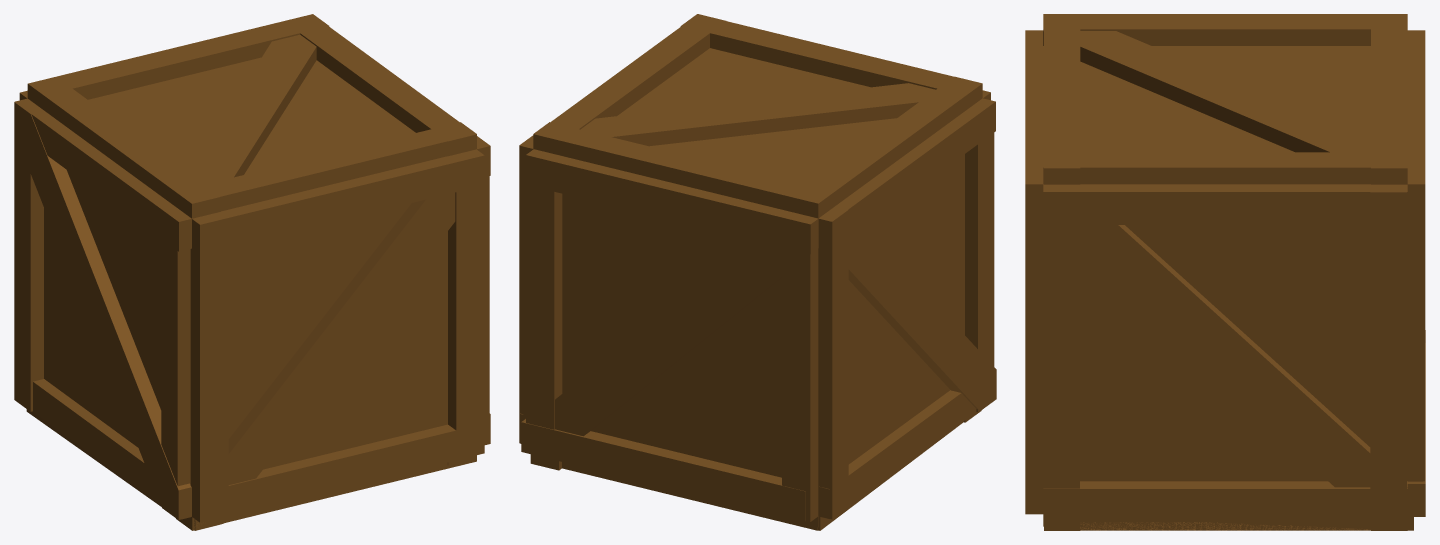
File: crate.fbx
The picture shows the model from 3 angles, left to right: view 1: azimuth 30°, elevation 25°; view 2: azimuth 150°, elevation 25°; view 3: azimuth 270°, elevation 25°; orthographic projection. The views are drawn at different scales.
Parts seen in each view (by area): view 1: Cube.002; view 2: Cube.002; view 3: Cube.002.
Part boxes in pixels (<box>): Cube.002: <box>14,14,490,530</box>; Cube.002: <box>519,14,996,530</box>; Cube.002: <box>1025,14,1425,530</box>.
Bounding box in the file's own units: 89.74 × 89.68 × 89.75.
